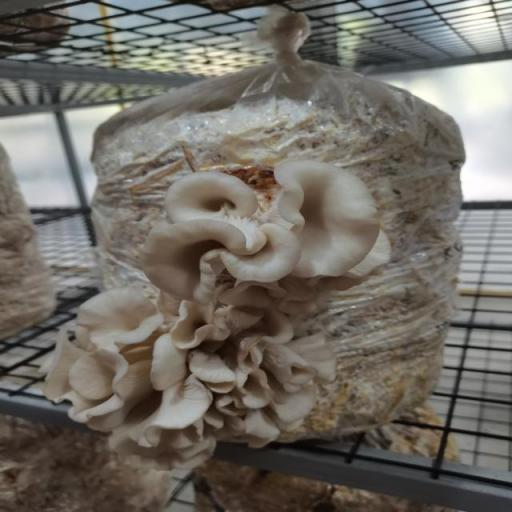White Oyster Mushroom: (37, 285, 344, 467), (134, 157, 385, 349)
